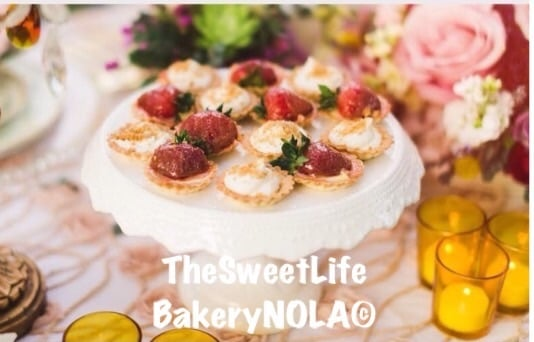pizza: (433, 232, 509, 337), (417, 194, 486, 289), (487, 208, 528, 312)
